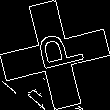P_W: (26, 31, 84, 79)
